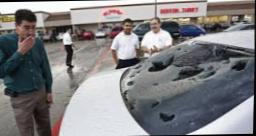Windshield: (122, 39, 255, 135)
